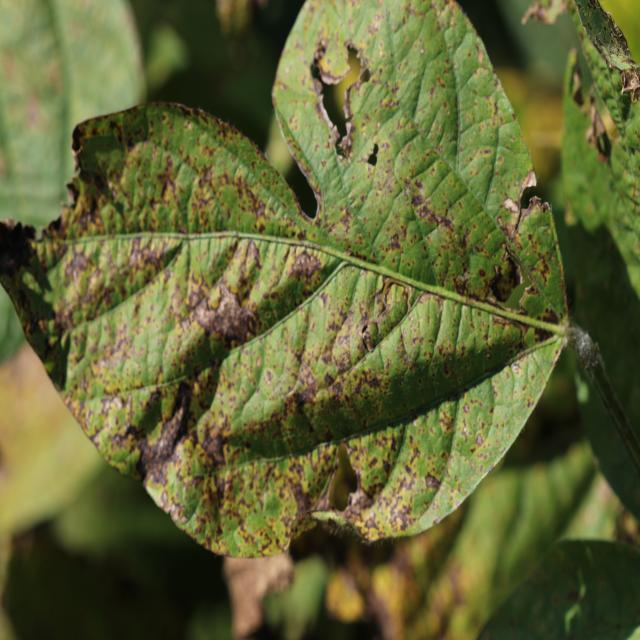Bacterial_Blight: (306, 29, 380, 172), (0, 226, 67, 380), (490, 177, 554, 310), (308, 450, 390, 536), (190, 266, 261, 344), (276, 100, 327, 207), (70, 105, 167, 158), (138, 398, 192, 485), (366, 277, 412, 351), (73, 124, 126, 184), (0, 215, 42, 279), (63, 188, 110, 239), (325, 443, 358, 512), (331, 239, 396, 273), (285, 508, 338, 548), (507, 170, 540, 228), (415, 196, 460, 238), (197, 413, 230, 464), (288, 249, 322, 281), (488, 264, 515, 302), (384, 279, 408, 306), (342, 42, 362, 73), (45, 209, 64, 236), (63, 177, 81, 203), (453, 271, 471, 297), (70, 125, 84, 156), (361, 324, 376, 351), (313, 39, 328, 64), (503, 196, 520, 215), (343, 244, 361, 260), (384, 0, 408, 11), (311, 61, 323, 82), (359, 67, 371, 84)
Soybean: (0, 0, 570, 564)
